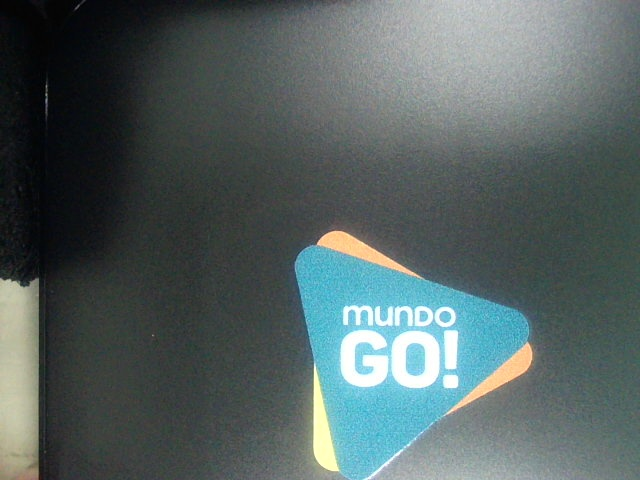AP_IPGMundoGO: (272, 221, 560, 479)
